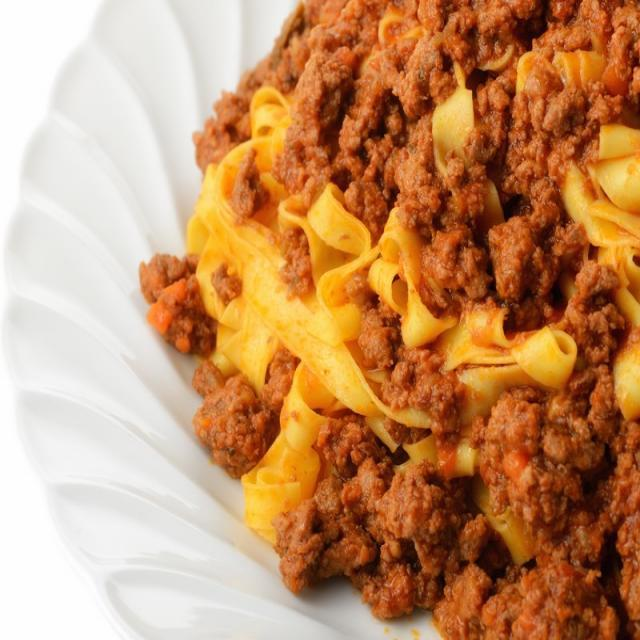Pasta al ragu: (197, 17, 639, 617)
